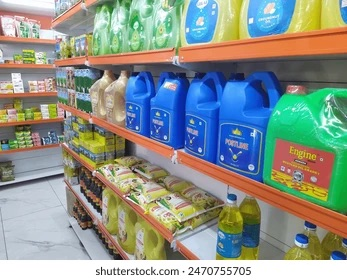saffola: (321, 0, 347, 28)
